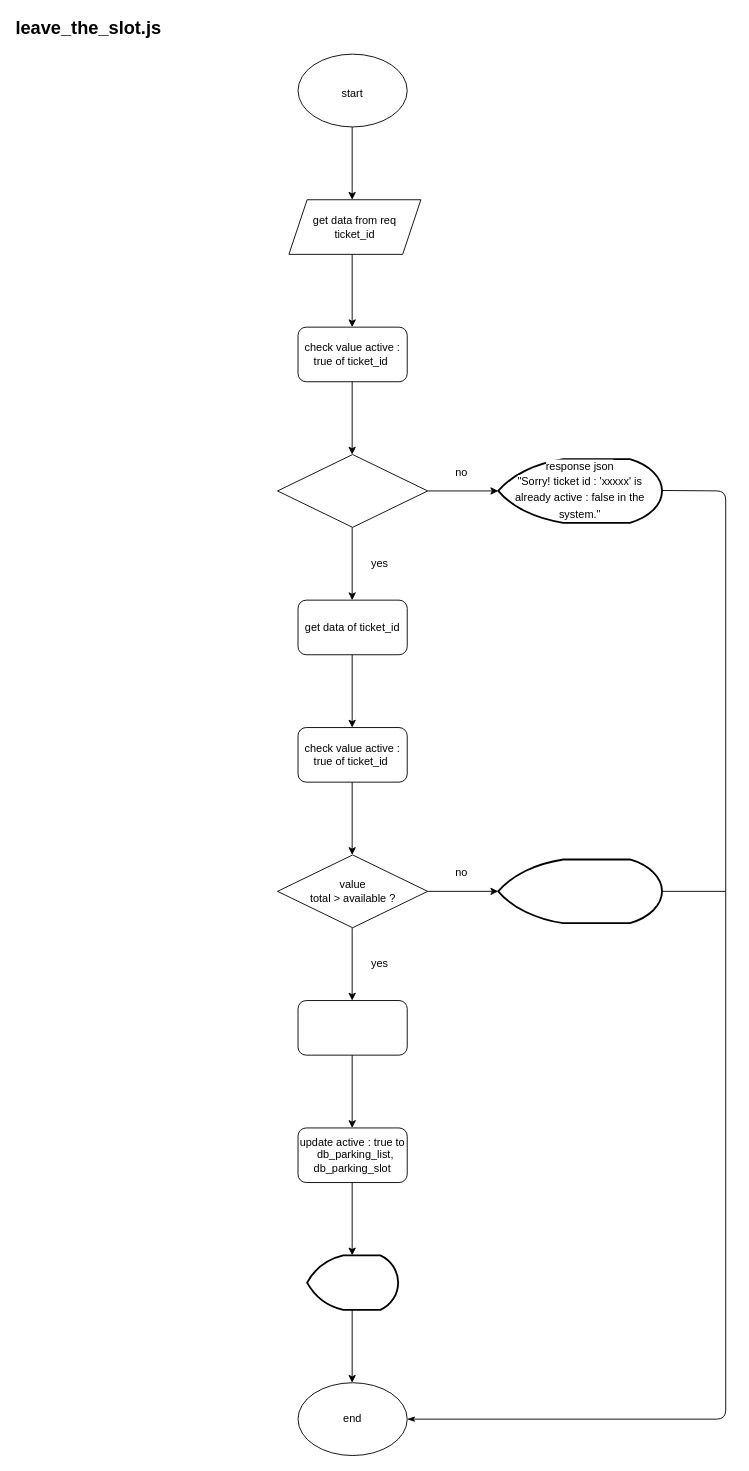
Some shapes in this 749 by 1471 pixel diagram are drawn without their labels. The shapes that lost their labels are listed below. From the top down, each one's centre as x and y in pixels, then its label:
[352,490]: result length > 0 ?
[579,891]: response json " Sorry! parking slot unavailable does not exit. "
[352,1027]: update available value to db_parking
[352,1282]: response result by json
